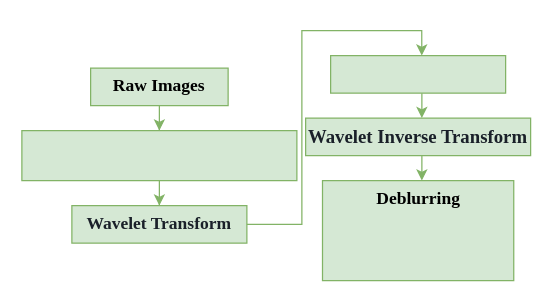
Some shapes in this 553 by 303 pixel diagram are drawn without their labels. Here are the shapes that lost their labels. From the top down, the centre of each, then its label:
At [417,73]: "Threshold Detrend".
At [159,155]: "Average Images: Two-dimensional → One-dimensional".
